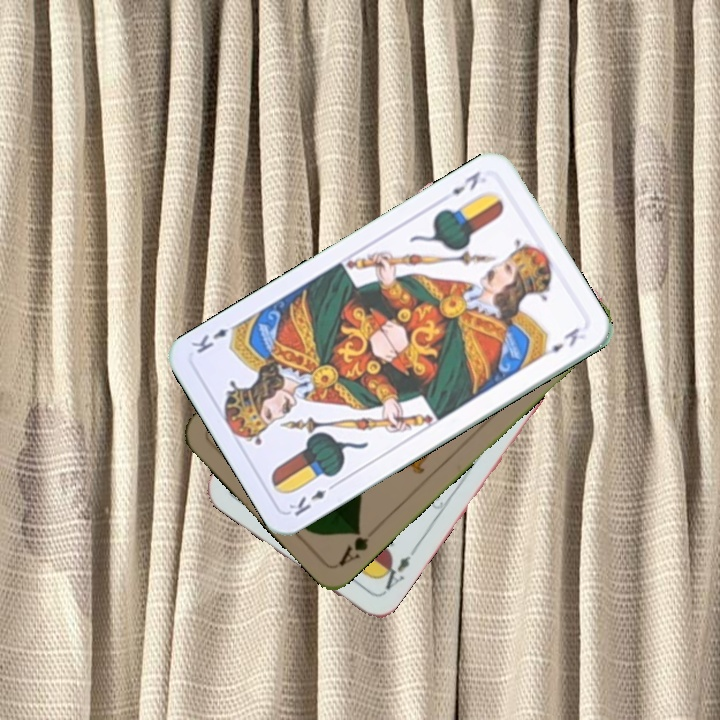EA: (374, 545, 419, 597)
EK: (284, 478, 340, 519), (447, 167, 483, 198)
GA: (334, 523, 372, 569)
